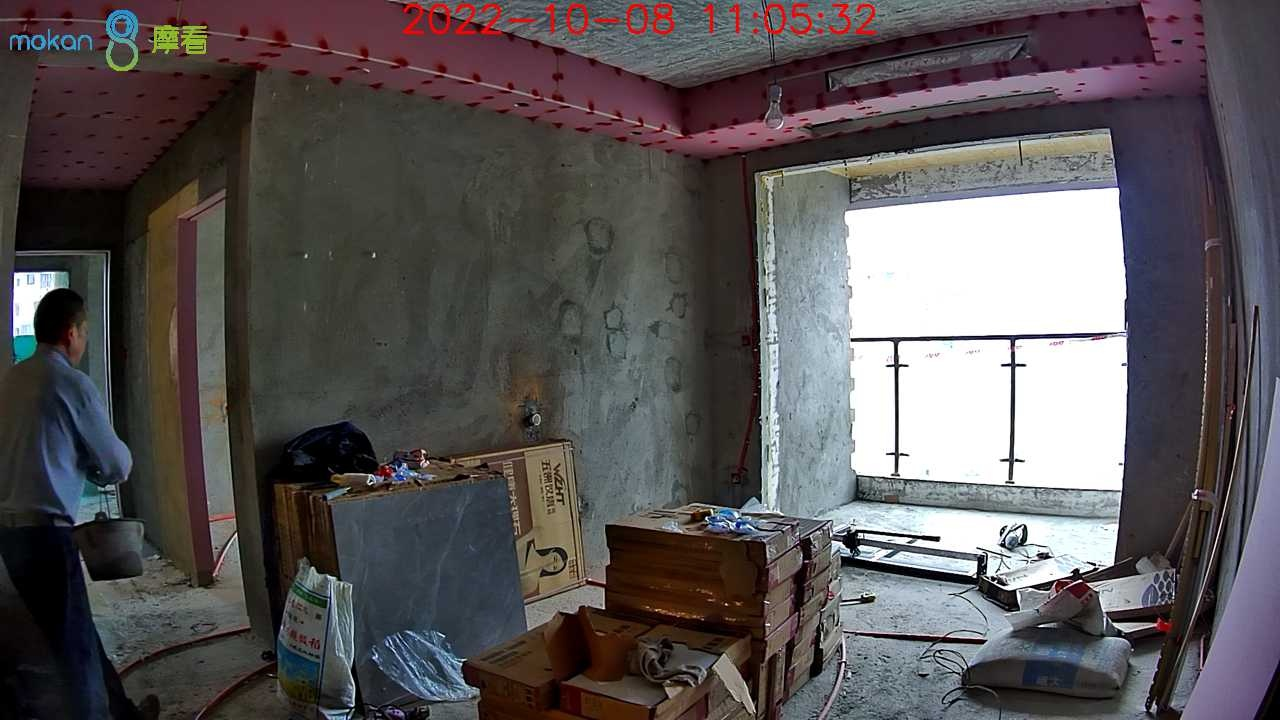people: (3, 287, 158, 720)
window: (845, 188, 1126, 493)
